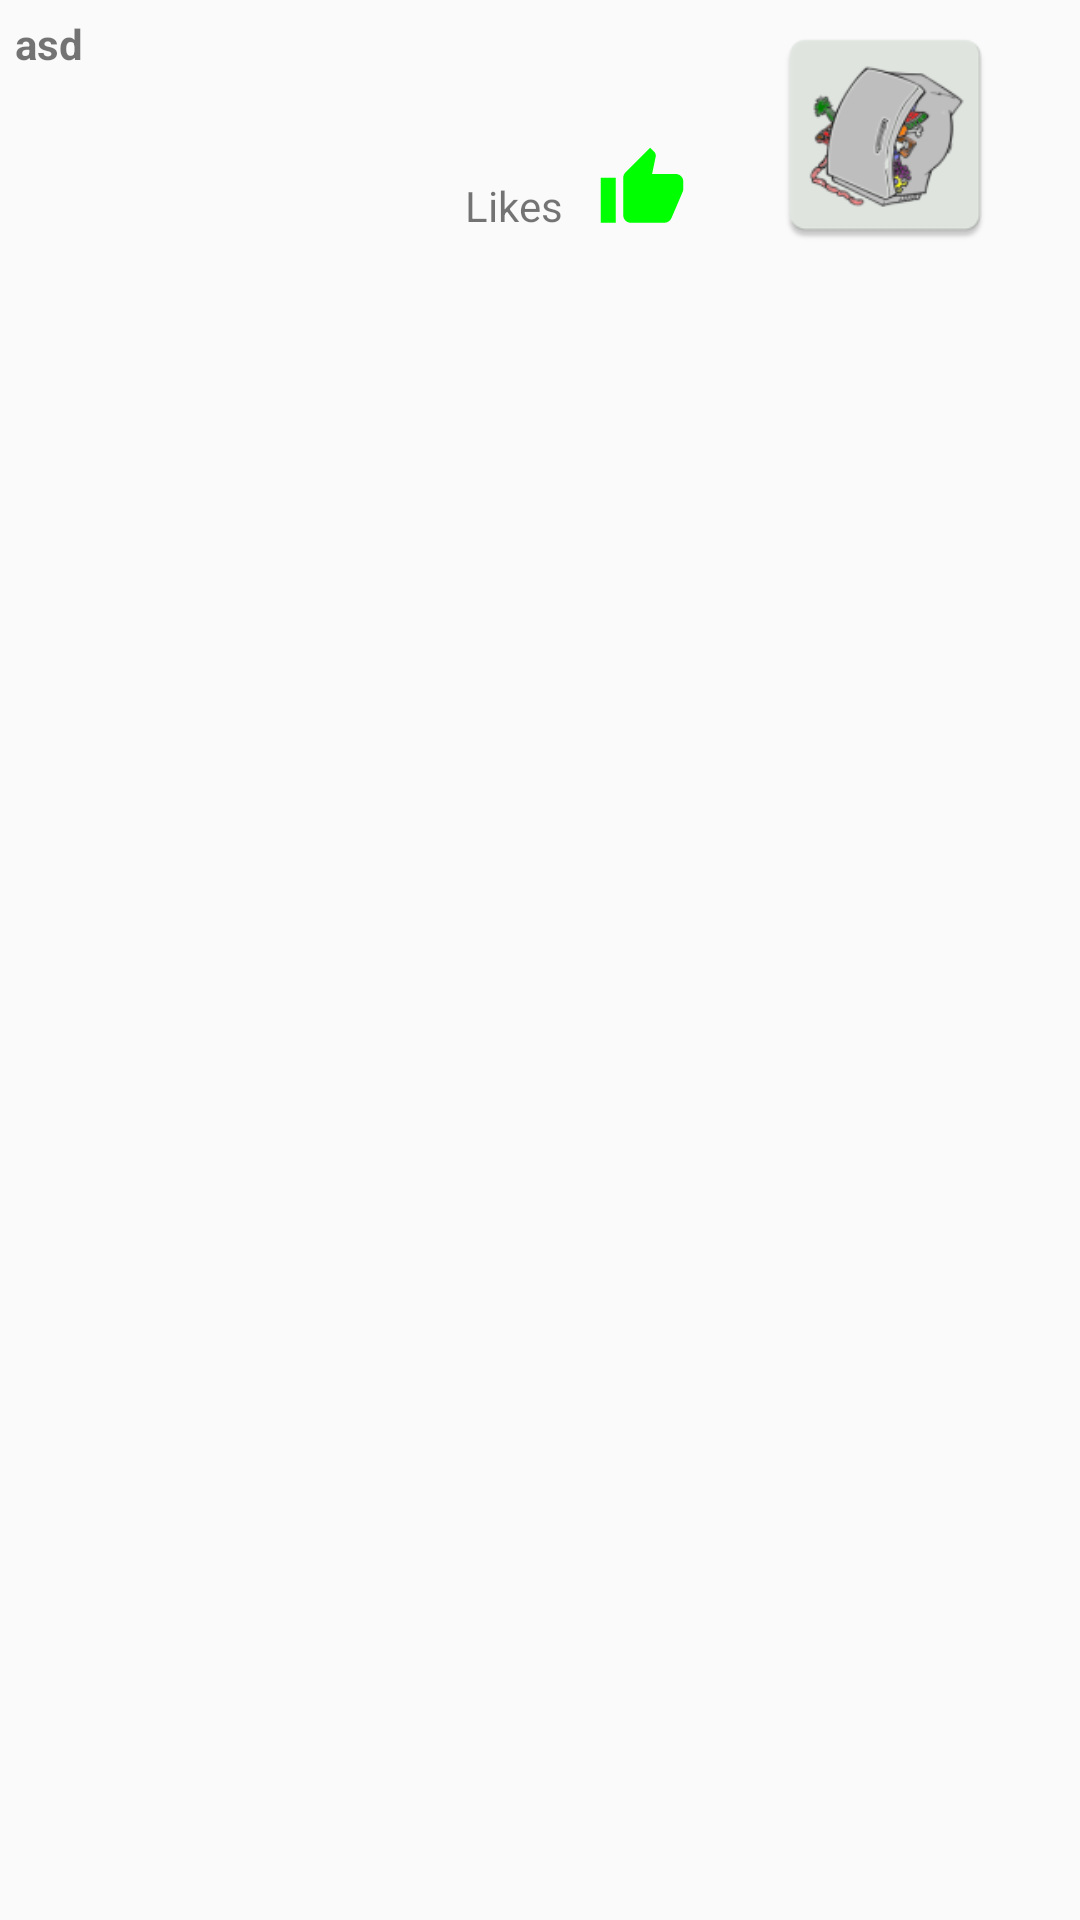

Screen size 1080w x 1920h. Icon name, then its center in pixels as (x,y):
thumb up: (642,185)
